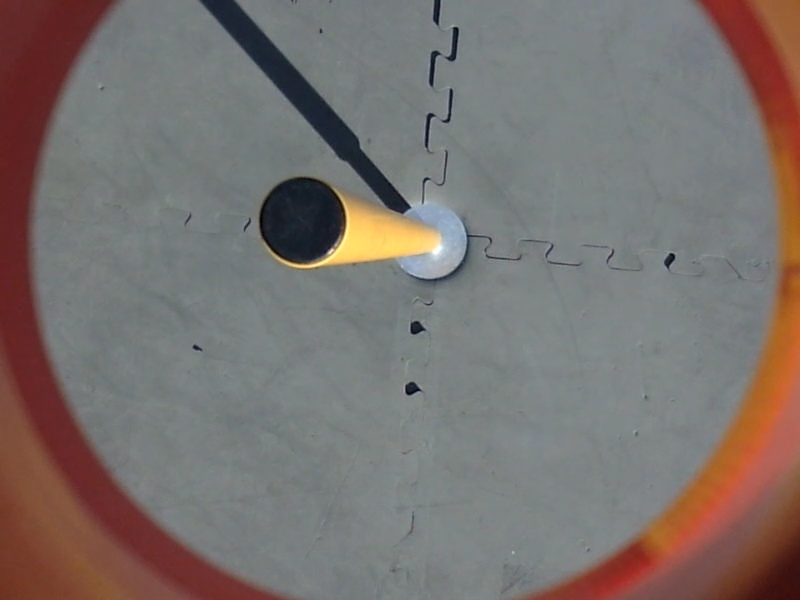tip: (256, 174, 353, 272)
